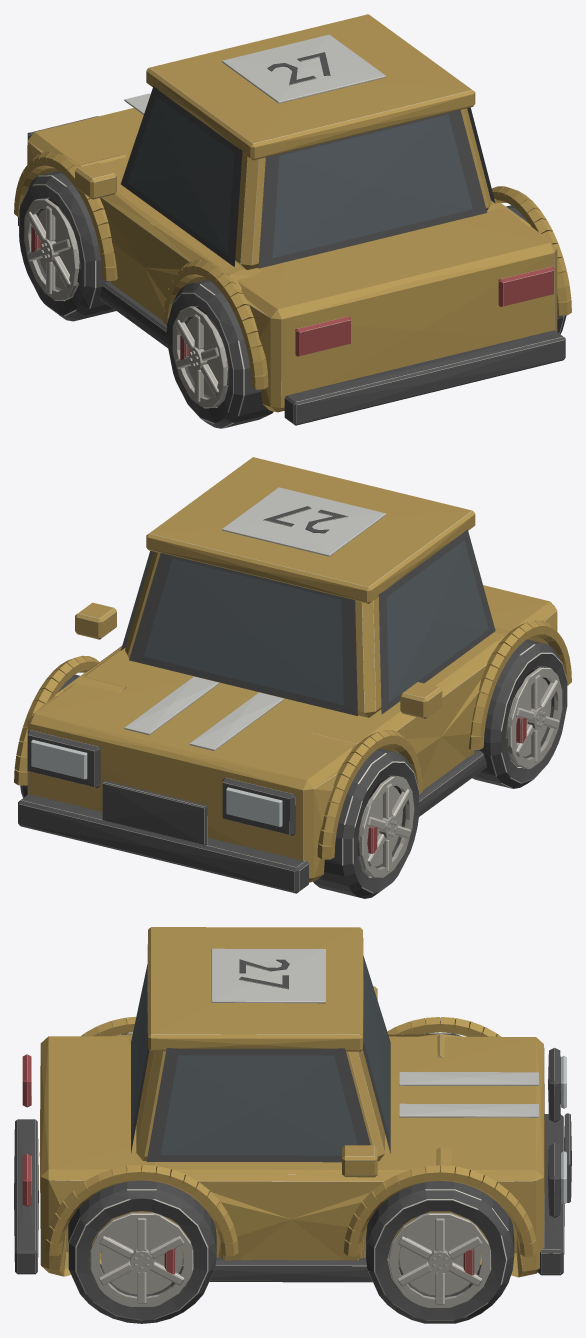
File: car_agile.glb
3 renders of one model, top to bottom at view 1: azimuth 30°, elevation 25°; view 2: azimuth 150°, elevation 25°; view 3: azimuth 270°, elevation 25°, orthographic.
Parts seen in each view (by area): view 1: Body.001, WheelMesh.006, WheelMesh.004; view 2: Body.001, WheelMesh.004, WheelMesh.006; view 3: Body.001, WheelMesh.007, WheelMesh.005.
Part boxes in pixels (x1=…): Body.001: x1=14, y1=14, x2=571, y2=425; WheelMesh.006: x1=166, y1=279, x2=273, y2=428; WheelMesh.004: x1=19, y1=171, x2=115, y2=321; Body.001: x1=14, y1=457, x2=571, y2=893; WheelMesh.004: x1=313, y1=748, x2=418, y2=898; WheelMesh.006: x1=472, y1=639, x2=567, y2=788; Body.001: x1=14, y1=927, x2=571, y2=1282; WheelMesh.007: x1=68, y1=1180, x2=216, y2=1323; WheelMesh.005: x1=366, y1=1181, x2=514, y2=1323.
Bounding box in the file's own units: 2.64 × 1.94 × 3.61.
